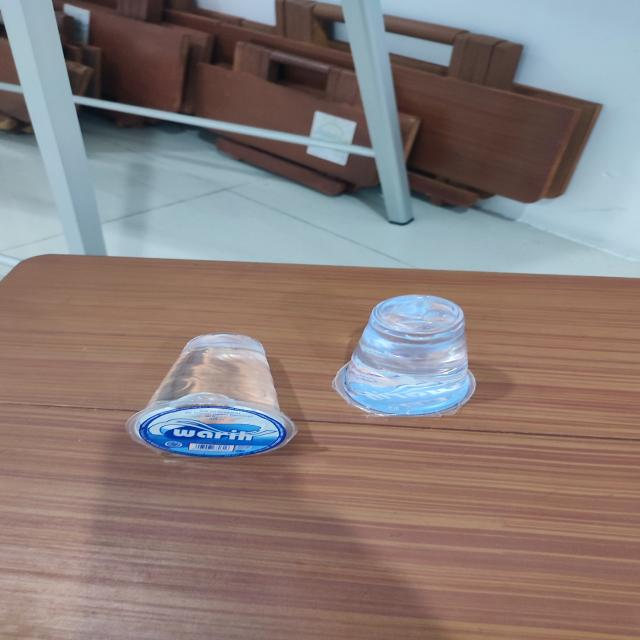air gelas: (126, 327, 309, 466), (328, 291, 492, 422)
